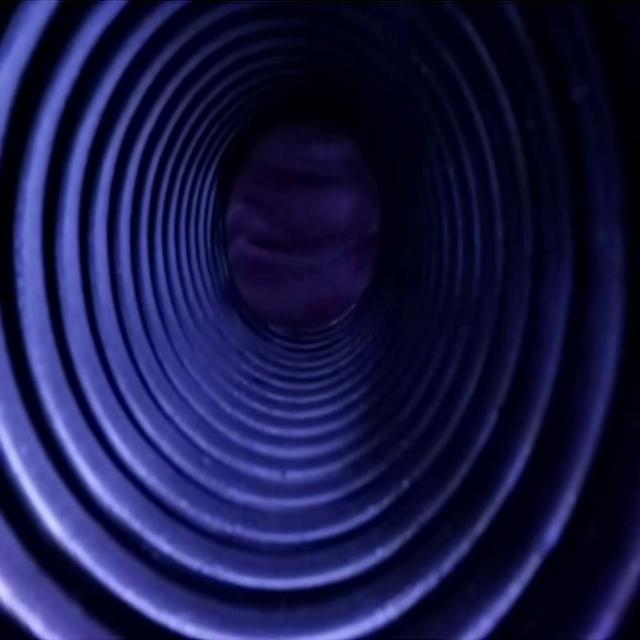block: (215, 122, 379, 331)
